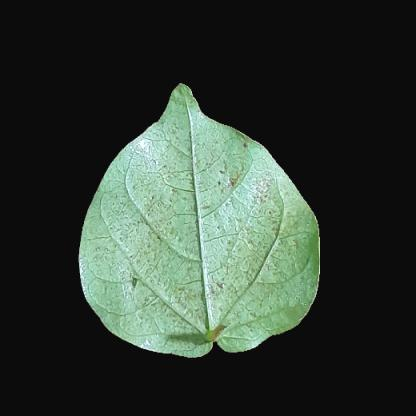healthy: (116, 167, 276, 338), (162, 122, 262, 168), (283, 212, 318, 299)
